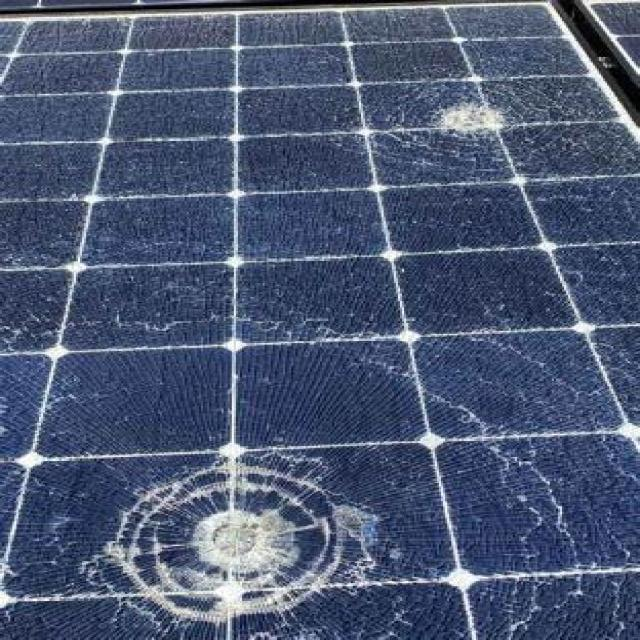cracked: (2, 20, 640, 640)
